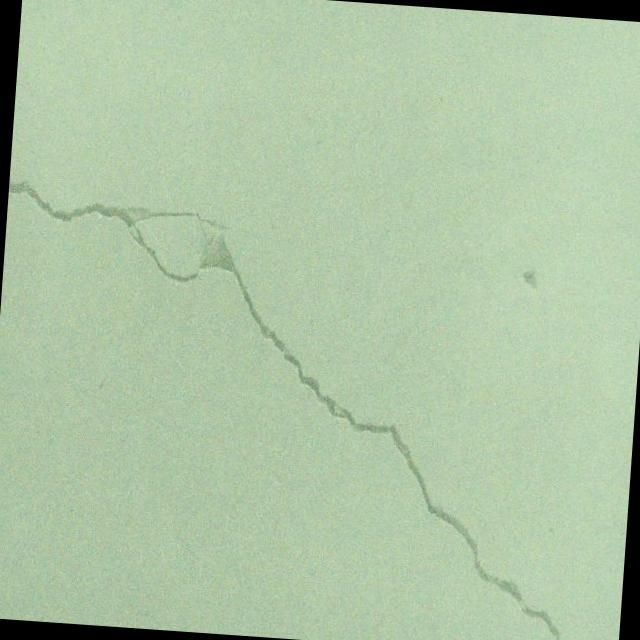crack: (0, 178, 601, 640)
